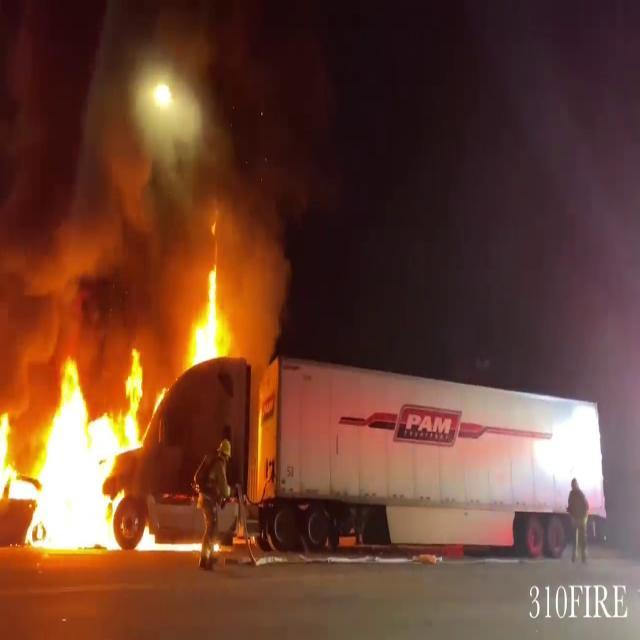Fire: (0, 352, 160, 558), (184, 260, 232, 379)
Smoke: (4, 88, 298, 390)
